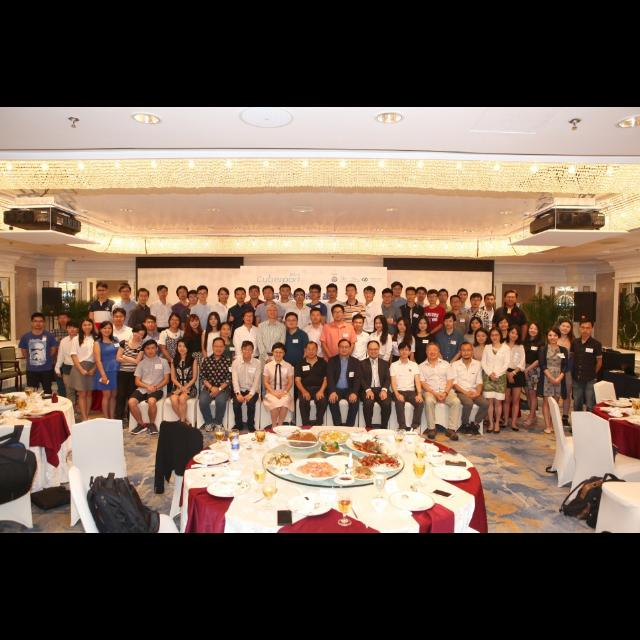head: (212, 338, 228, 357), (144, 340, 160, 358), (240, 342, 256, 360), (112, 308, 128, 326), (474, 328, 490, 346), (272, 342, 286, 362), (460, 342, 474, 362), (31, 314, 47, 331), (426, 344, 442, 361), (367, 342, 381, 361), (66, 320, 82, 336), (292, 288, 308, 304), (344, 284, 360, 300), (81, 318, 95, 336), (134, 324, 148, 342), (306, 342, 320, 360), (398, 342, 412, 360), (580, 320, 594, 338), (285, 312, 299, 330), (352, 314, 366, 332), (444, 312, 458, 330), (338, 339, 352, 356), (508, 326, 522, 342), (528, 322, 542, 338), (558, 320, 572, 336), (266, 304, 280, 320), (332, 306, 346, 322), (504, 290, 518, 306), (100, 320, 112, 338), (490, 326, 502, 344), (138, 288, 150, 306), (405, 286, 417, 304), (396, 317, 409, 333), (471, 316, 484, 332), (197, 286, 210, 302), (235, 287, 248, 303), (326, 284, 339, 300), (144, 316, 158, 330), (96, 284, 110, 298), (248, 286, 262, 300), (178, 340, 190, 356), (548, 328, 560, 344), (170, 313, 182, 329), (189, 314, 201, 330), (208, 312, 220, 328), (220, 322, 232, 338), (310, 308, 322, 324), (374, 316, 386, 332), (120, 284, 132, 300), (177, 286, 189, 302), (188, 290, 200, 306), (263, 286, 275, 302), (310, 284, 322, 300), (364, 286, 376, 302), (382, 289, 394, 305), (450, 294, 462, 310), (471, 293, 483, 309), (484, 292, 496, 308), (498, 316, 510, 332), (242, 310, 255, 324), (418, 316, 429, 332), (417, 286, 428, 302), (58, 314, 72, 326), (218, 288, 230, 302), (280, 284, 292, 298), (428, 290, 440, 304), (392, 282, 402, 298), (438, 289, 449, 303), (458, 290, 469, 304), (158, 286, 168, 300)
person: (318, 304, 358, 424), (416, 341, 462, 443), (17, 312, 58, 426), (490, 290, 530, 404), (126, 338, 172, 436), (568, 319, 606, 437), (100, 307, 138, 425), (112, 322, 150, 432), (65, 317, 102, 428), (450, 340, 490, 440), (432, 312, 468, 423), (296, 307, 330, 423), (84, 282, 118, 396), (255, 304, 287, 424), (279, 287, 315, 393), (546, 319, 580, 431), (276, 312, 310, 424), (90, 318, 124, 429), (535, 326, 569, 436), (52, 320, 86, 428), (457, 316, 491, 424), (252, 286, 286, 394), (156, 312, 188, 426), (392, 286, 426, 392), (132, 314, 164, 426), (198, 337, 234, 435), (378, 281, 410, 391), (232, 308, 262, 424), (326, 338, 362, 434), (356, 340, 392, 436), (388, 341, 424, 437), (46, 312, 78, 420), (226, 286, 258, 394), (126, 288, 158, 394), (294, 341, 330, 435), (460, 292, 494, 391), (481, 327, 512, 435), (490, 314, 522, 418), (260, 342, 296, 434), (342, 313, 372, 423), (188, 285, 218, 395), (240, 284, 270, 394), (270, 284, 300, 394), (466, 327, 499, 427), (352, 286, 383, 392), (338, 283, 368, 392), (409, 315, 439, 423), (428, 288, 459, 392), (473, 291, 505, 391), (229, 340, 263, 434), (200, 311, 228, 425), (180, 314, 208, 426), (110, 282, 138, 394), (441, 294, 473, 392), (371, 287, 401, 391), (418, 288, 448, 392), (366, 314, 394, 424), (147, 284, 175, 394), (320, 282, 348, 392), (388, 316, 417, 422), (408, 286, 437, 392), (168, 338, 200, 434), (300, 283, 328, 392), (518, 321, 546, 429), (448, 288, 477, 392), (177, 289, 205, 395), (500, 324, 526, 434), (169, 285, 195, 395), (208, 287, 232, 395), (212, 322, 236, 424)
